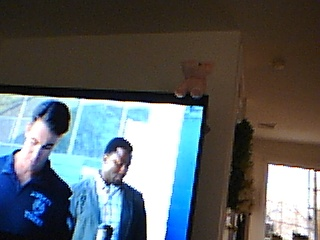piggy: (172, 56, 213, 100)
